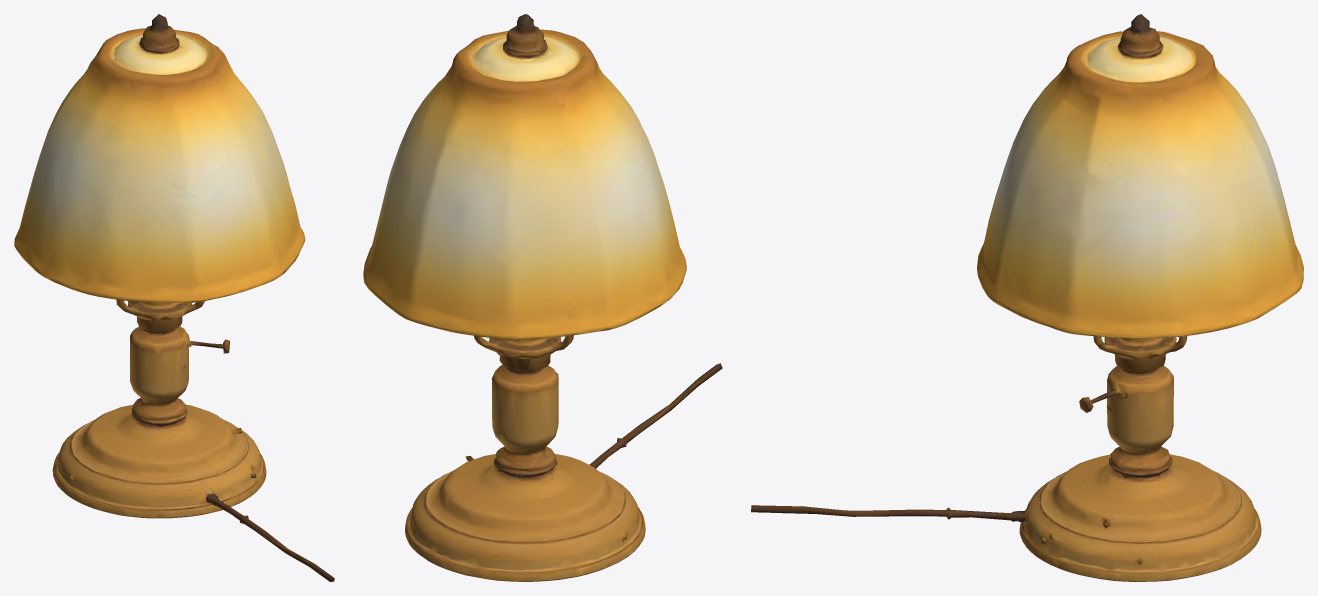
The model's file is lamp.glb.
3 views of the same model, side by side, from view 1: azimuth 30°, elevation 25°; view 2: azimuth 150°, elevation 25°; view 3: azimuth 270°, elevation 25° (orthographic). The views are drawn at different scales.
Visible parts, largest first — view 1: tripo_node_d7206c9c-97f1-452e-87e5-e5b036b7df6a; view 2: tripo_node_d7206c9c-97f1-452e-87e5-e5b036b7df6a; view 3: tripo_node_d7206c9c-97f1-452e-87e5-e5b036b7df6a.
Boxes of the visible parts, x1=… form: tripo_node_d7206c9c-97f1-452e-87e5-e5b036b7df6a: x1=14, y1=14, x2=334, y2=581; tripo_node_d7206c9c-97f1-452e-87e5-e5b036b7df6a: x1=363, y1=14, x2=722, y2=581; tripo_node_d7206c9c-97f1-452e-87e5-e5b036b7df6a: x1=751, y1=14, x2=1303, y2=581.
Bounding box in the file's own units: 0.5613 × 1 × 0.967.
Materials: 1 (1 with a texture image).
